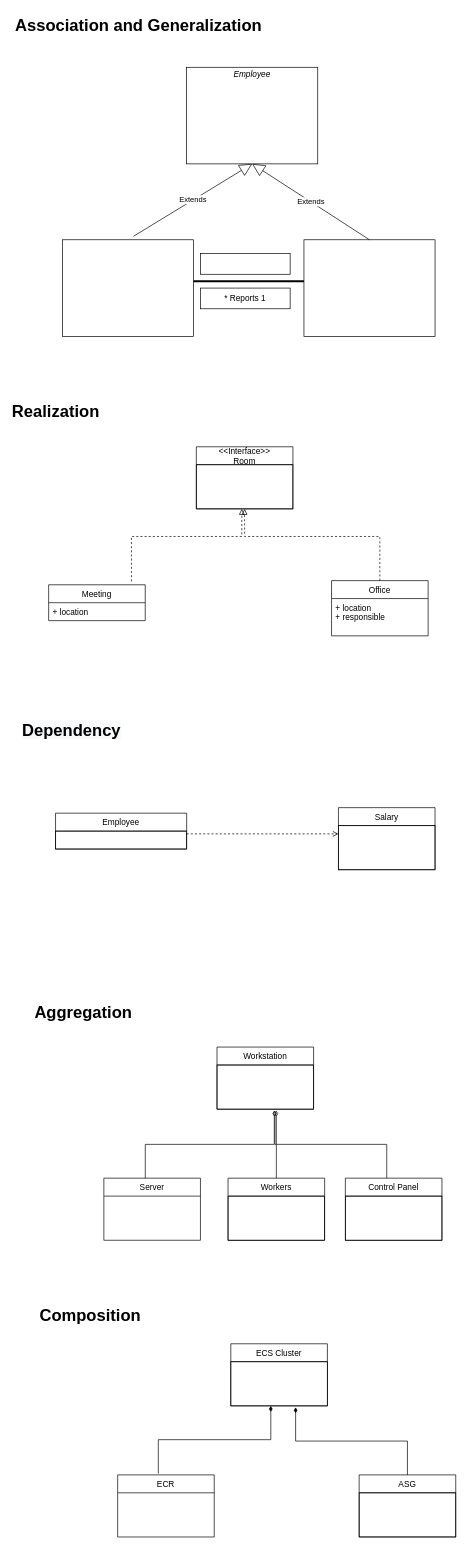
Image size: 468x1549. Some labels were removed from this diagram. The centre of each missing label's shape, as x and y in pixels:
+ allocate() + isfree(): point 244,486
+ paid_salary(salary: int): bool: point 121,839
1 Manages *: point 245,263
Developer: point 369,287
Manager: point 128,287
